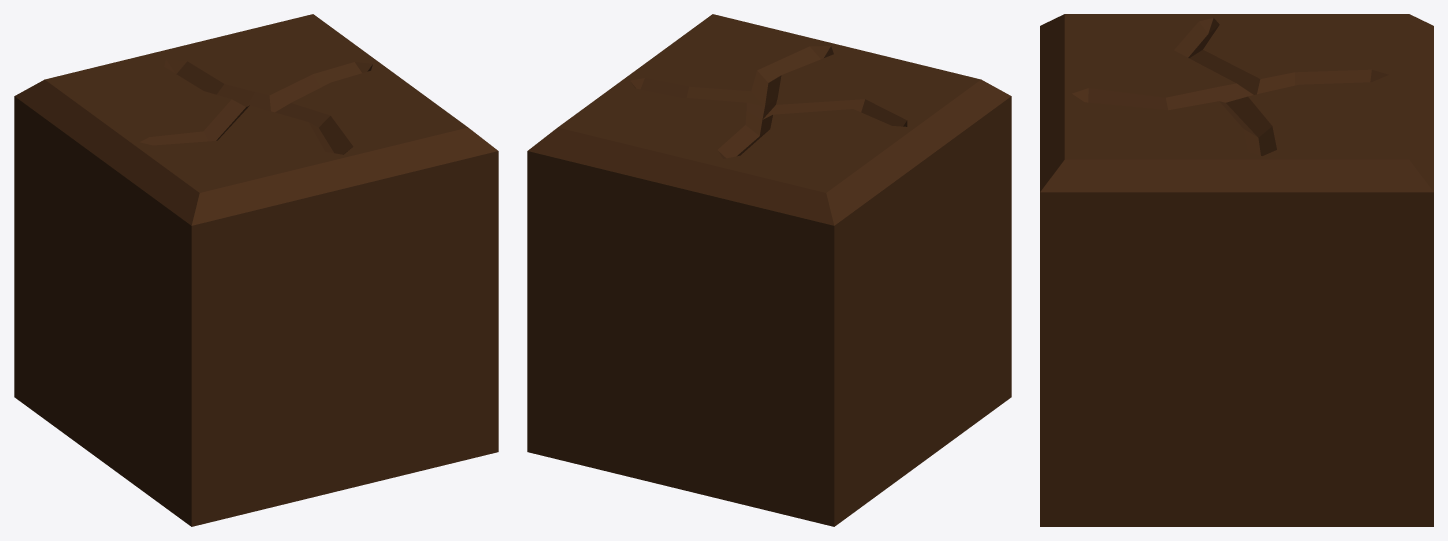
Rendered from Floor.glb.
3 renders of one model, left to right at view 1: azimuth 30°, elevation 25°; view 2: azimuth 150°, elevation 25°; view 3: azimuth 270°, elevation 25°, orthographic. The views are drawn at different scales.
Visible parts, largest first — view 1: Cube; view 2: Cube; view 3: Cube.
Boxes of the visible parts, box(x1,y1,x2,y2) form: Cube: box(14, 14, 498, 526); Cube: box(527, 14, 1011, 526); Cube: box(1040, 14, 1433, 526).
Bounding box in the file's own units: 1 × 1 × 1.
